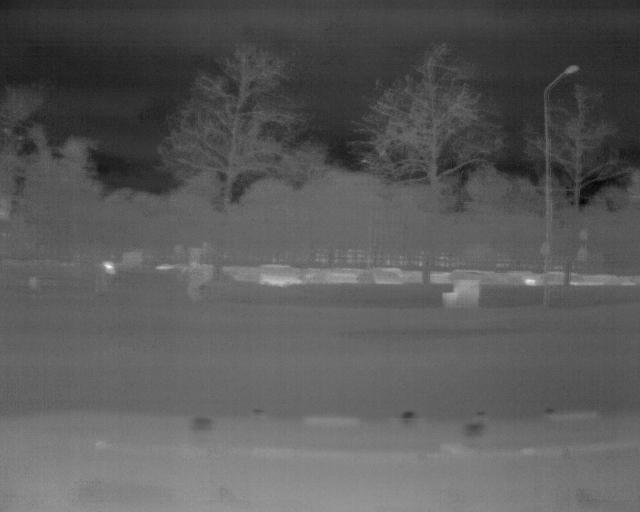car: (257, 263, 291, 288)
